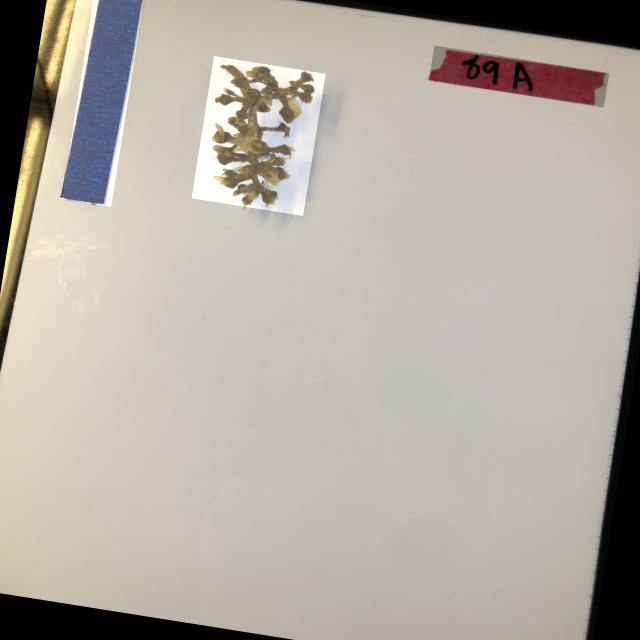index: (429, 46, 609, 108)
measure_label: (62, 0, 145, 207)
rachis_cluster: (192, 56, 326, 216)
